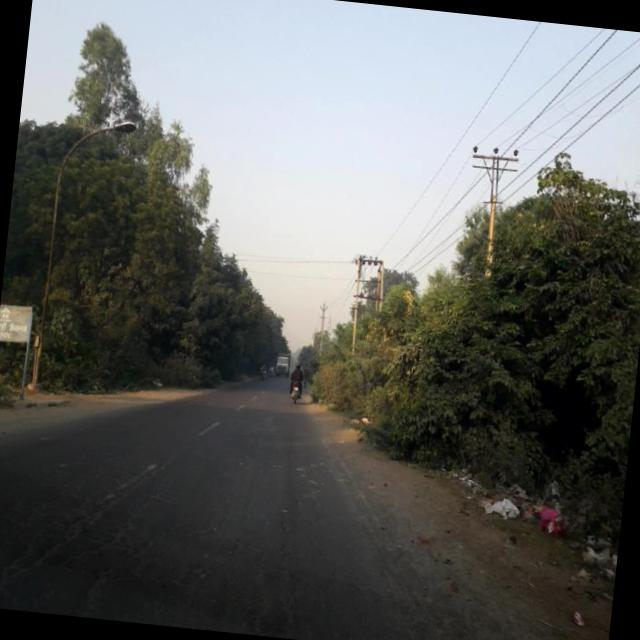crack: (0, 441, 187, 618)
